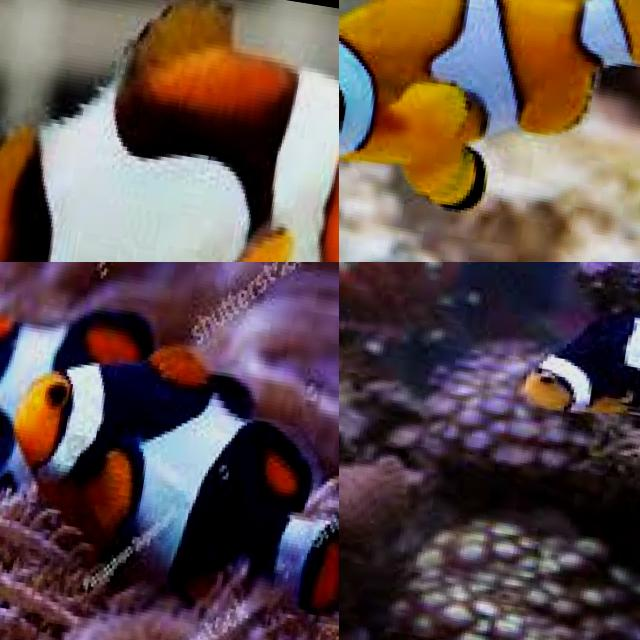Amphiprion-percula: (0, 336, 339, 640), (0, 0, 339, 262), (339, 0, 640, 215), (0, 262, 199, 550), (497, 262, 640, 502)
